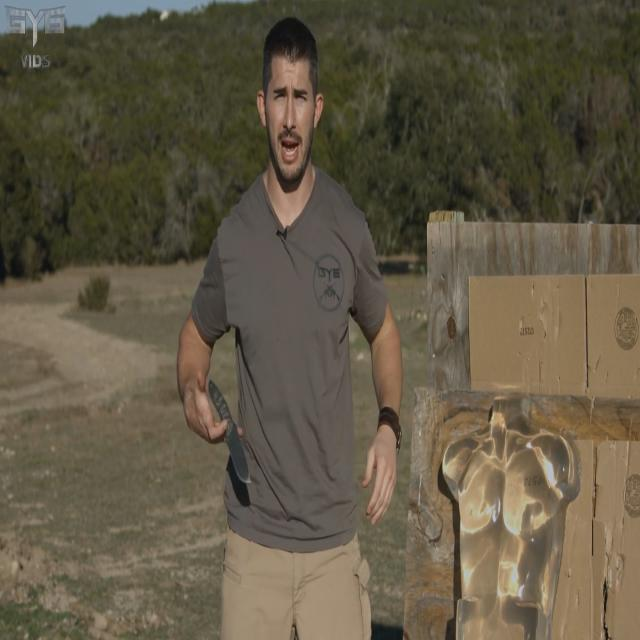knife: (208, 374, 256, 492)
